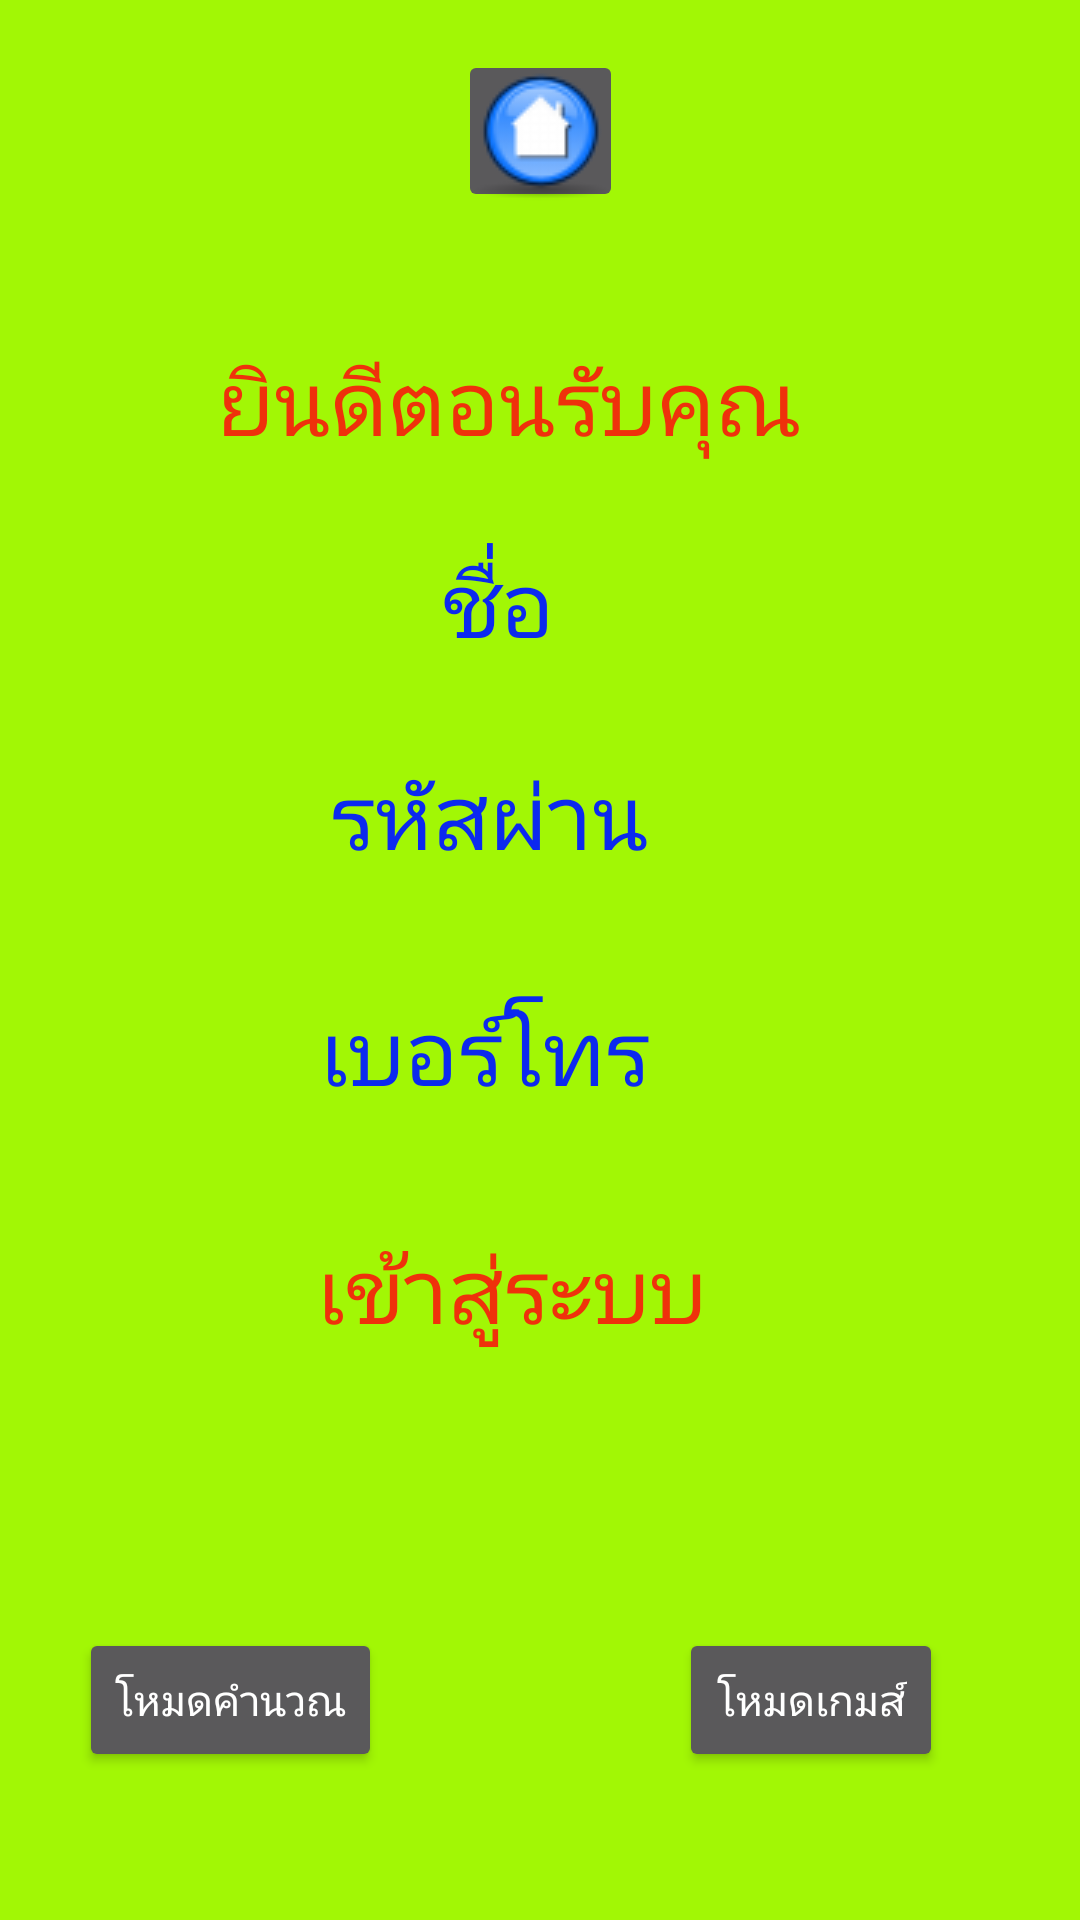

Where icons sit on this 1080 x 1920 app screen, as (x1, y1, x2, y2):
home: (470, 68, 611, 196)
